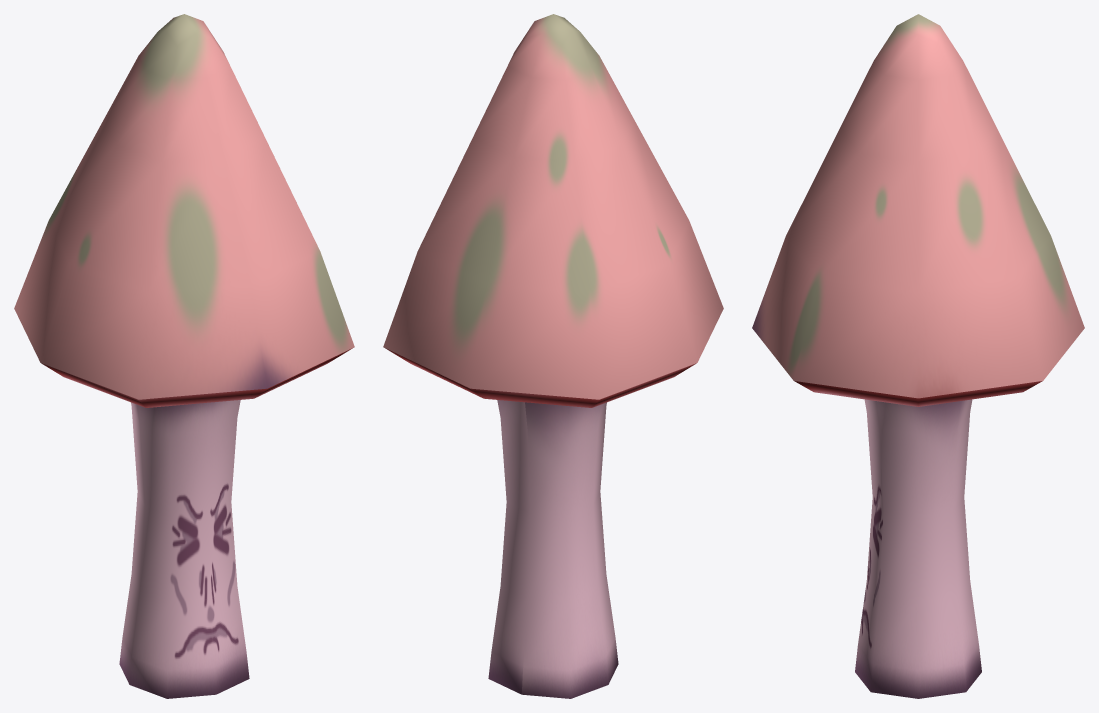
The model's file is Mushroom2.fbx.
3 renders of one model, left to right at view 1: azimuth 30°, elevation 25°; view 2: azimuth 150°, elevation 25°; view 3: azimuth 270°, elevation 25°, orthographic.
Parts seen in each view (by area): view 1: pCube1; view 2: pCube1; view 3: pCube1.
Part boxes in pixels (x1,y1,x2,y2): pCube1: (14, 14, 354, 698); pCube1: (383, 14, 723, 698); pCube1: (752, 14, 1084, 698).
Bounding box in the file's own units: 0.8569 × 1.89 × 0.8569.
Materials: 1 (1 with a texture image).
